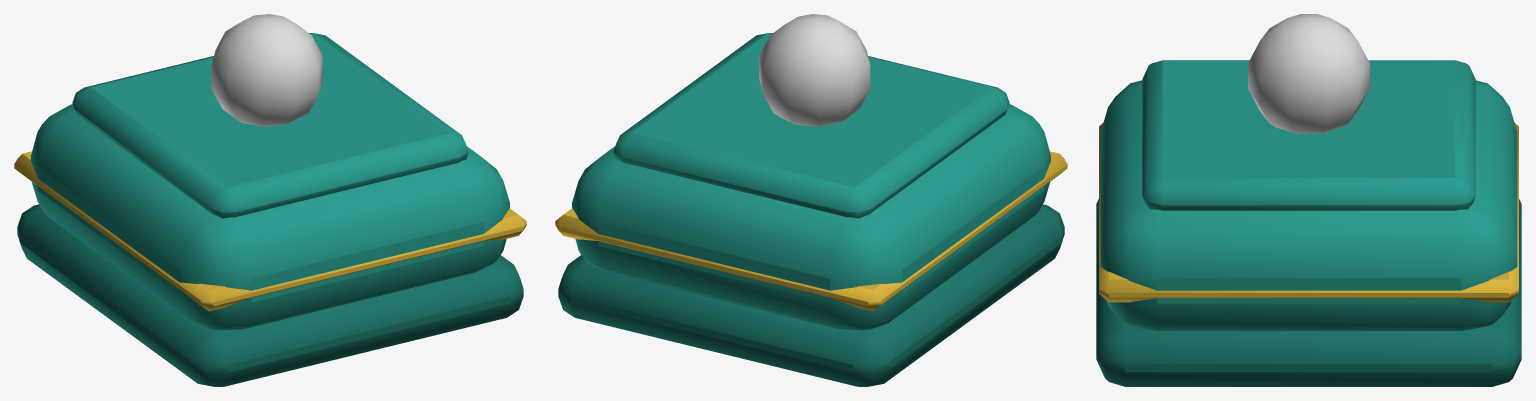
The model's file is hat-beanie.glb.
The picture shows the model from 3 angles, left to right: view 1: azimuth 30°, elevation 25°; view 2: azimuth 150°, elevation 25°; view 3: azimuth 270°, elevation 25°; orthographic projection. The views are drawn at different scales.
Parts seen in each view (by area): view 1: Hat; view 2: Hat; view 3: Hat.
Part boxes in pixels (box(x1,y1,x2,y2)): Hat: box(14, 14, 526, 386); Hat: box(555, 14, 1067, 386); Hat: box(1096, 14, 1521, 386).
Bounding box in the file's own units: 0.49 × 0.385 × 0.51.
